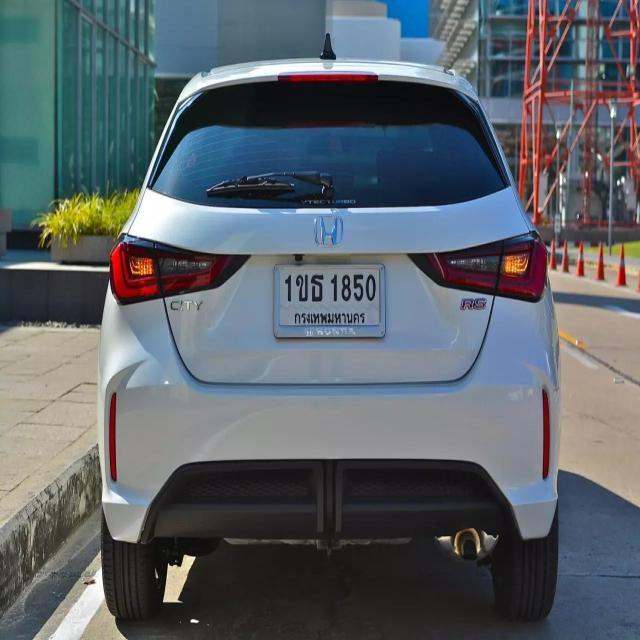Hatchback: (98, 36, 560, 619)
